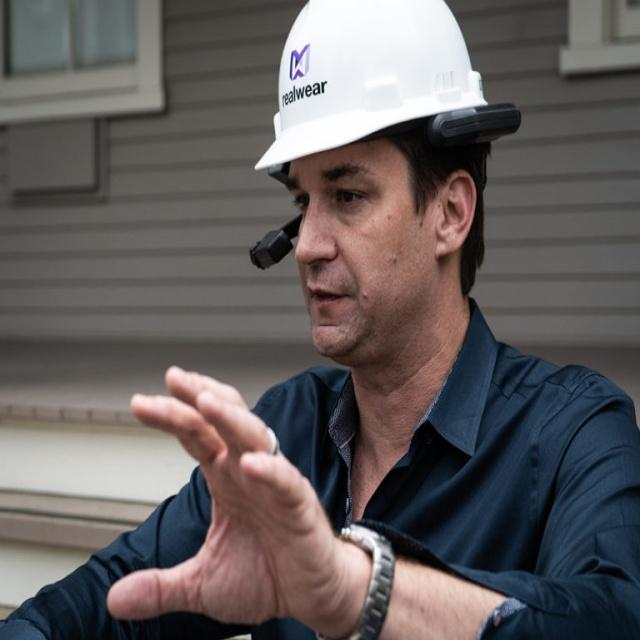helmet: (254, 3, 519, 476)
